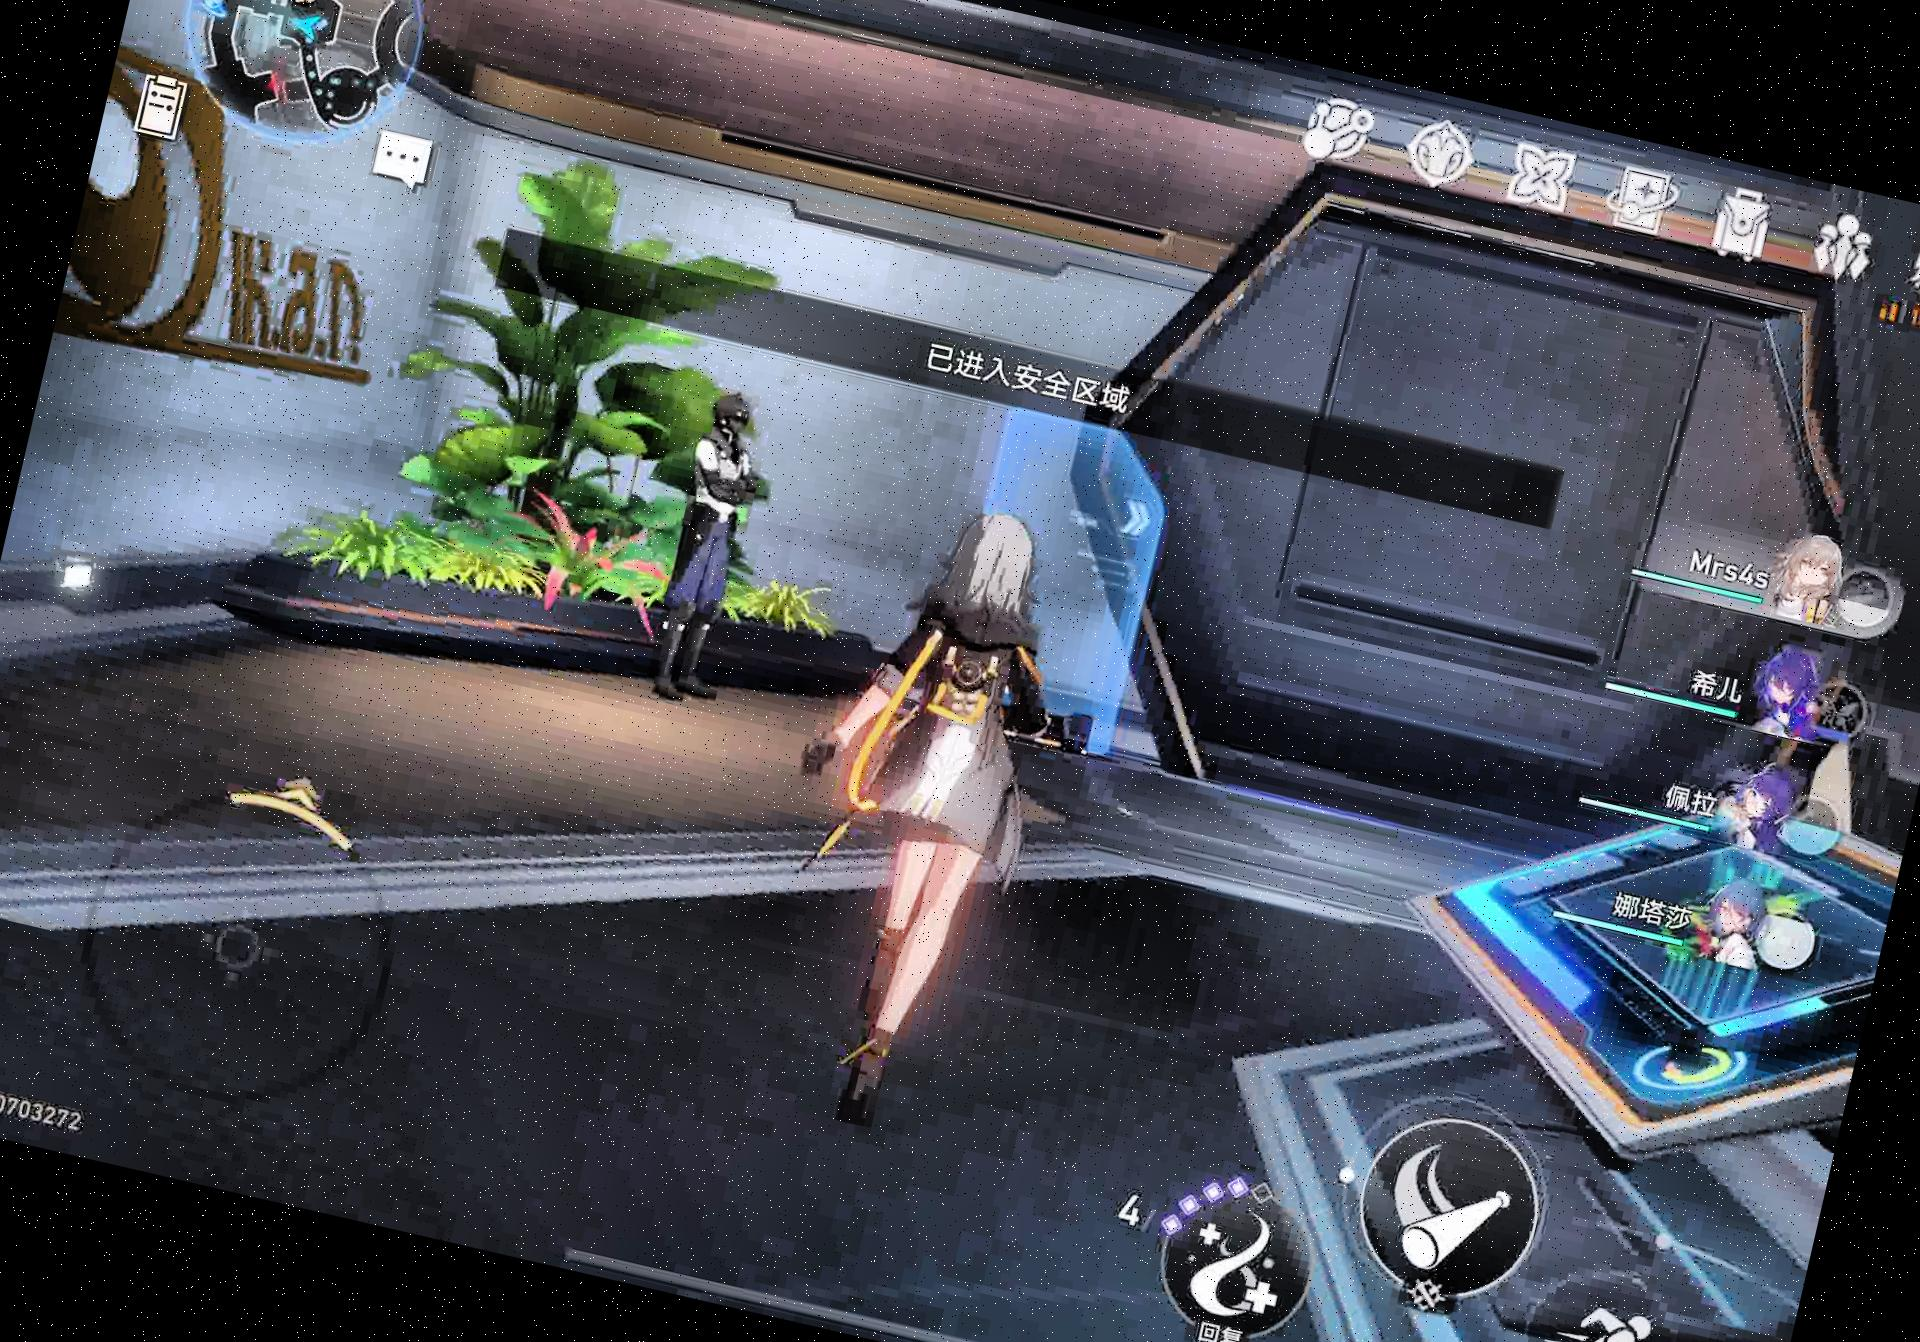Self: (728, 480, 1115, 1130)
TeamMate: (620, 373, 797, 724)
